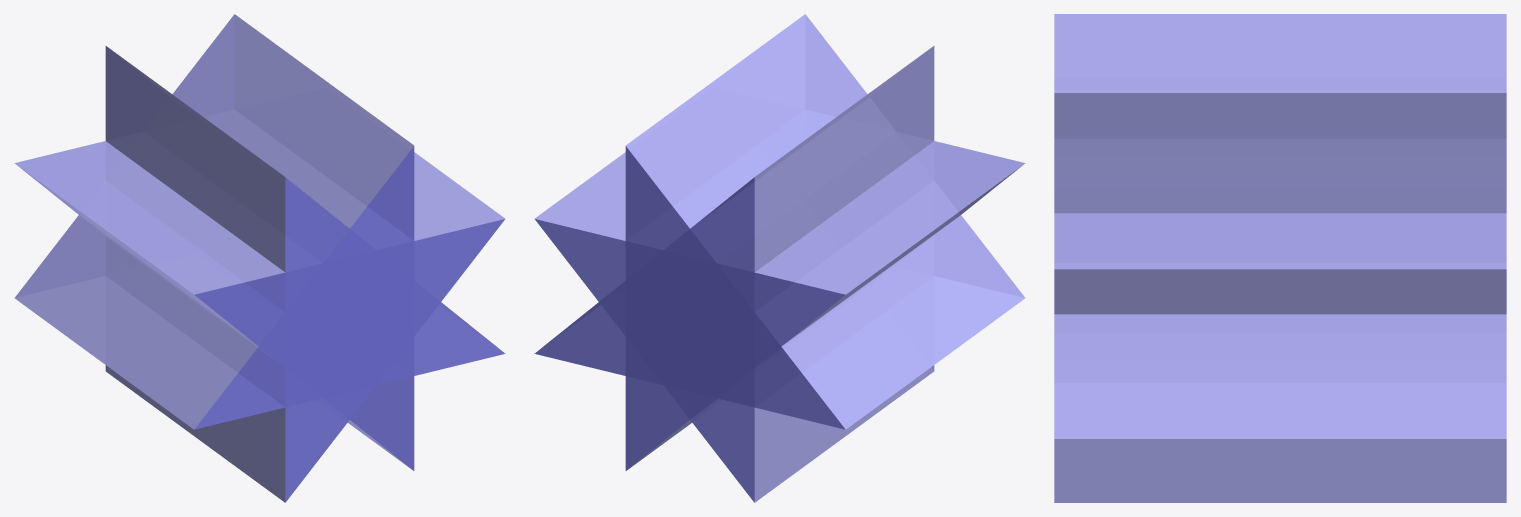
File: OctagrammicPrism.obj
The picture shows the model from 3 angles, left to right: view 1: azimuth 30°, elevation 25°; view 2: azimuth 150°, elevation 25°; view 3: azimuth 270°, elevation 25°; orthographic projection. The views are drawn at different scales.
Bounding box in the file's own units: 1 × 1 × 1.
